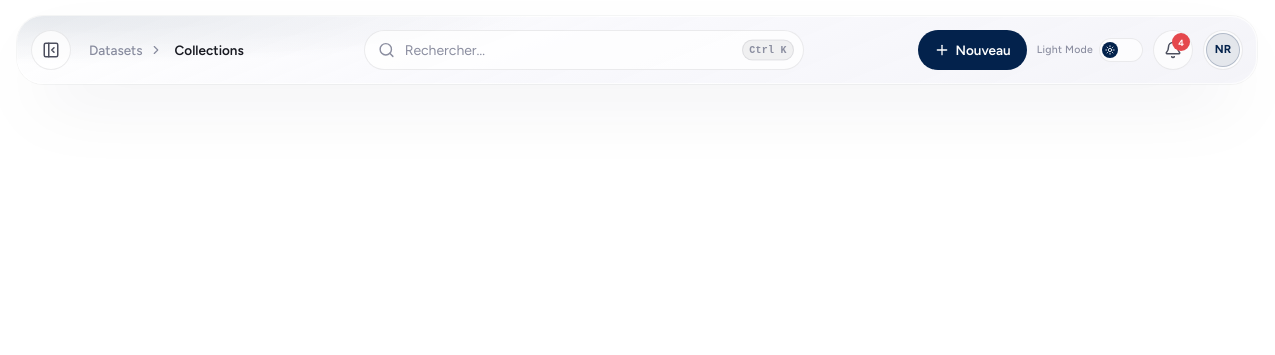
it: Navbar — menus déroulants › ferme le menu au clavier sur Échap
Click the button named "Notifications" at [1173, 50], box left=1153, top=30, right=1193, bottom=70
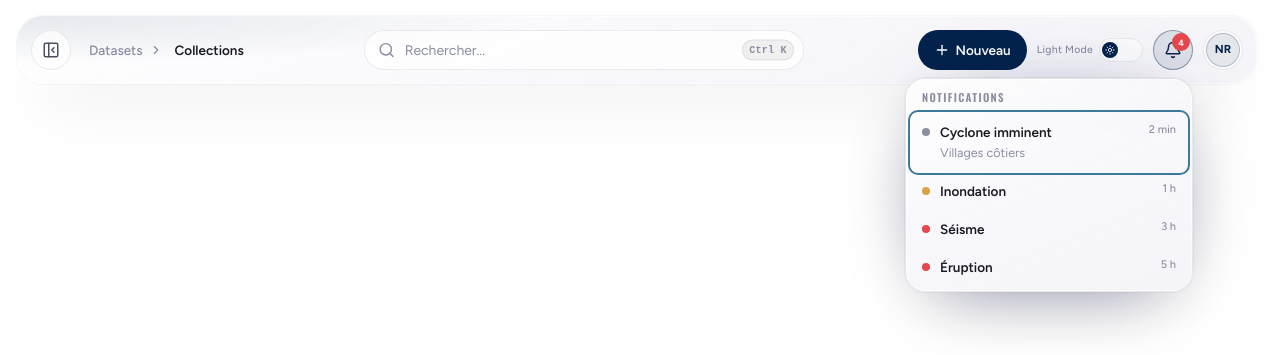
Press Escape
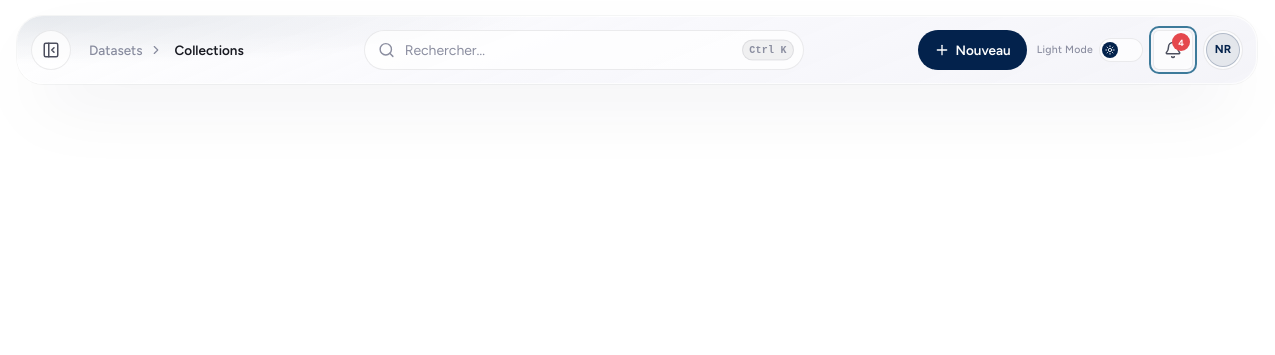
Result: the text "Notifications" is gone
